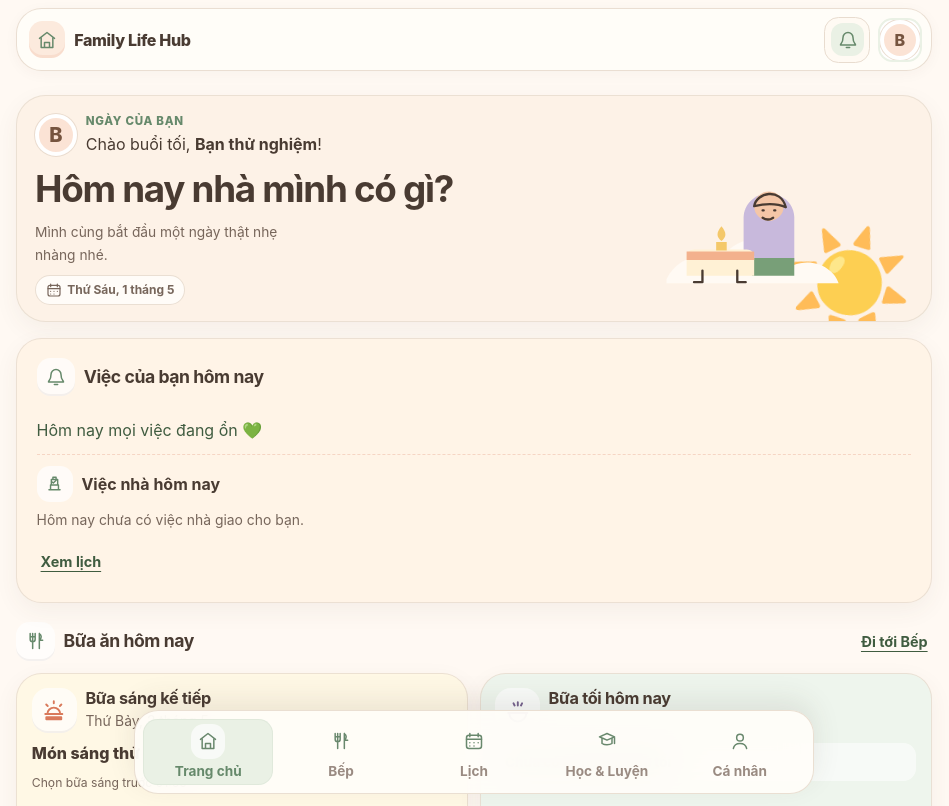
Test case: warm role-aware Home › Home kitchen shortcut opens the existing kitchen, with no duplicated Home editor
This screenshot has width=949, height=806.
Step 1. Click the button "Đi tới Bếp" → {"x": 894, "y": 641}, box [857,619,932,663]
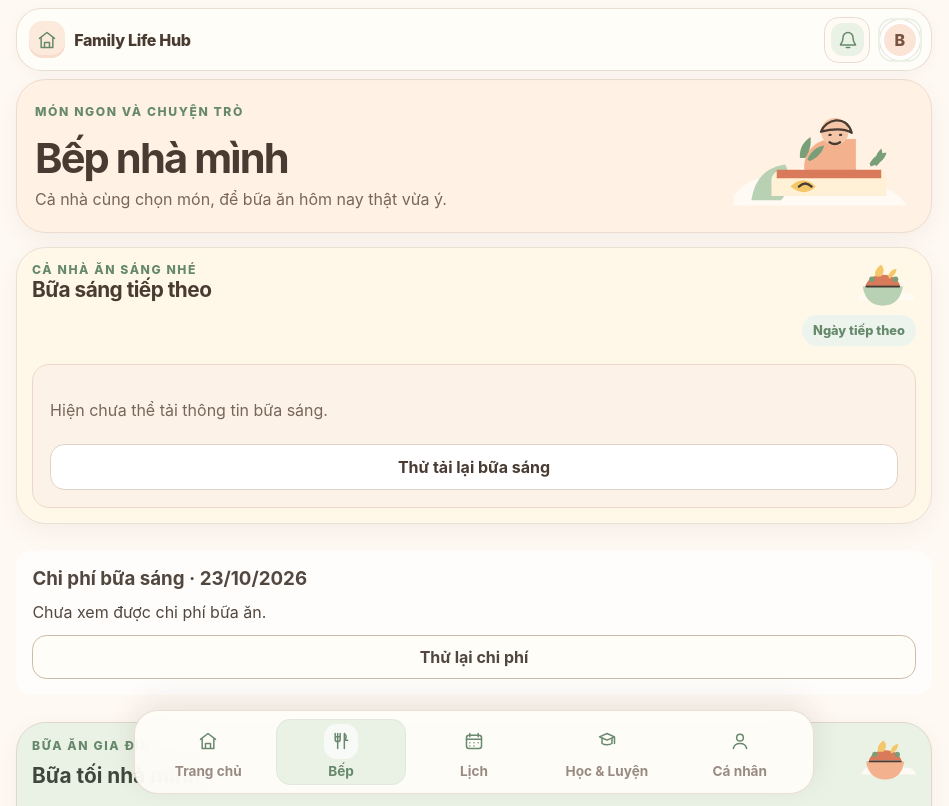
Check: the heading "Bếp nhà mình" is shown, box [35,133,288,183]
Check: the heading "Hôm nay nhà mình có gì?" is gone
